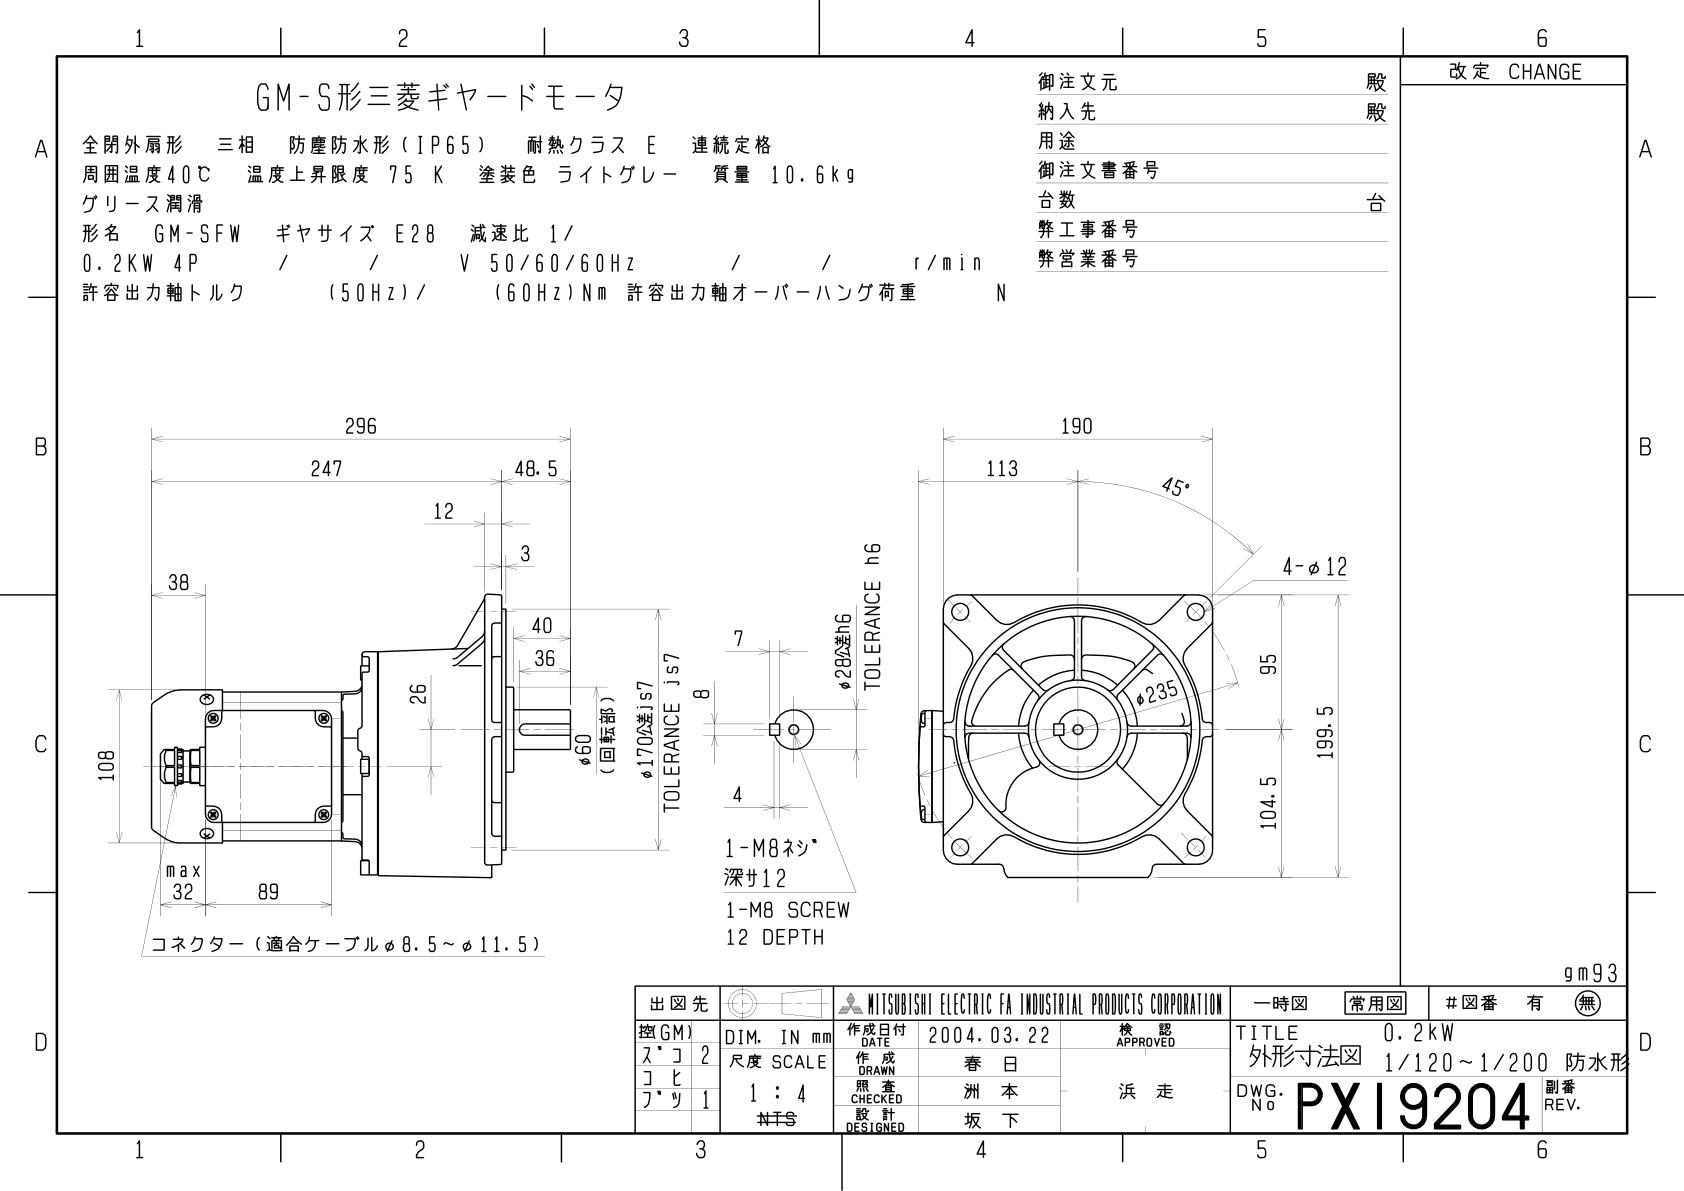GM_S_IP65＿三相_フランジ: (4, 6, 1684, 1186)
